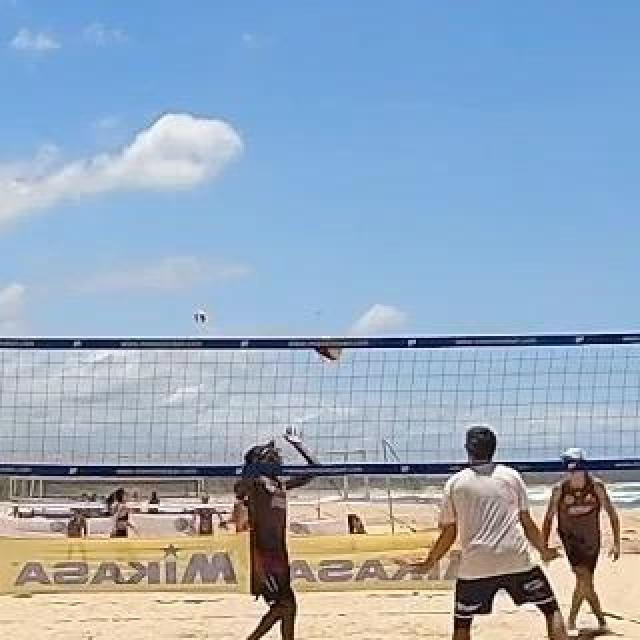volleyball: (315, 336, 341, 364), (194, 309, 208, 325)
